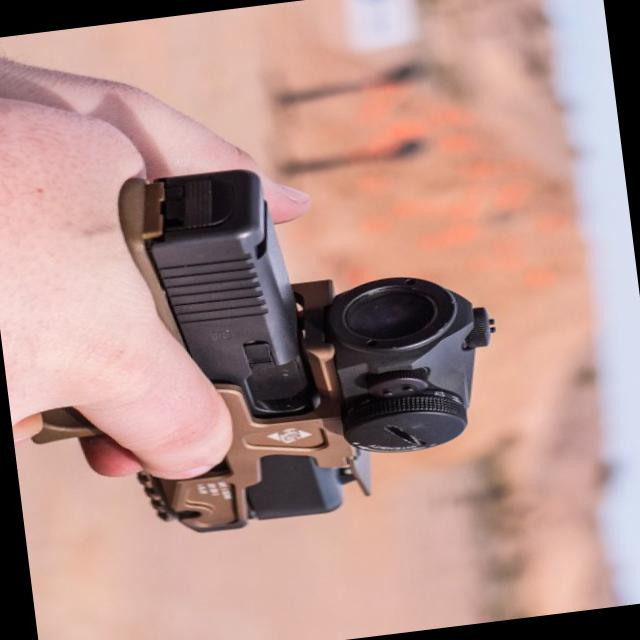handgun: (46, 136, 356, 554)
